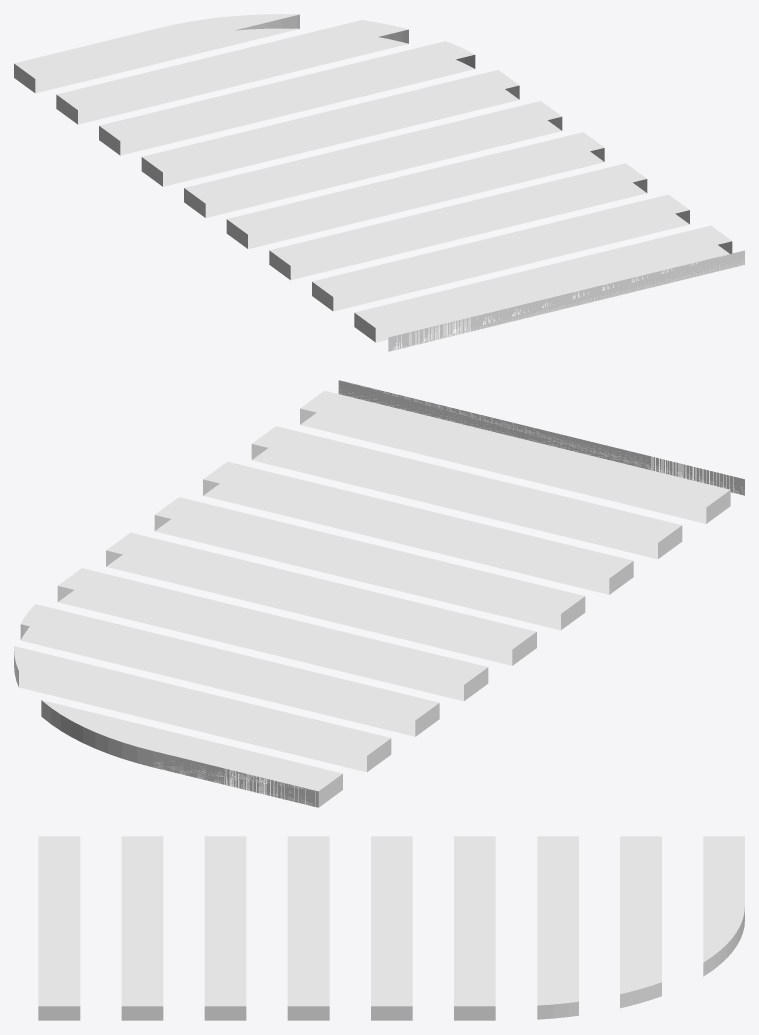
File: door4.fbx
The picture shows the model from 3 angles, top to bottom: view 1: azimuth 30°, elevation 25°; view 2: azimuth 150°, elevation 25°; view 3: azimuth 270°, elevation 25°; orthographic projection. The views are drawn at different scales.
Parts seen in each view (by area): view 1: Curve.003; view 2: Curve.003; view 3: Curve.003.
Part boxes in pixels (x1,y1,x2,y2): Curve.003: (14,14,744,351); Curve.003: (14,380,744,807); Curve.003: (38,836,744,1020).
Size of the model in its own units: 15.52 by 0.6002 by 28.22.
